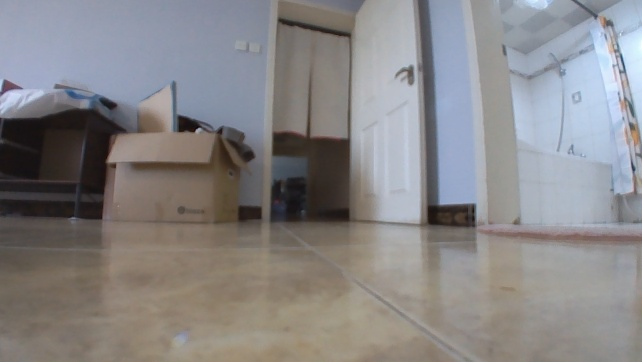door_anno: (345, 0, 432, 224)
